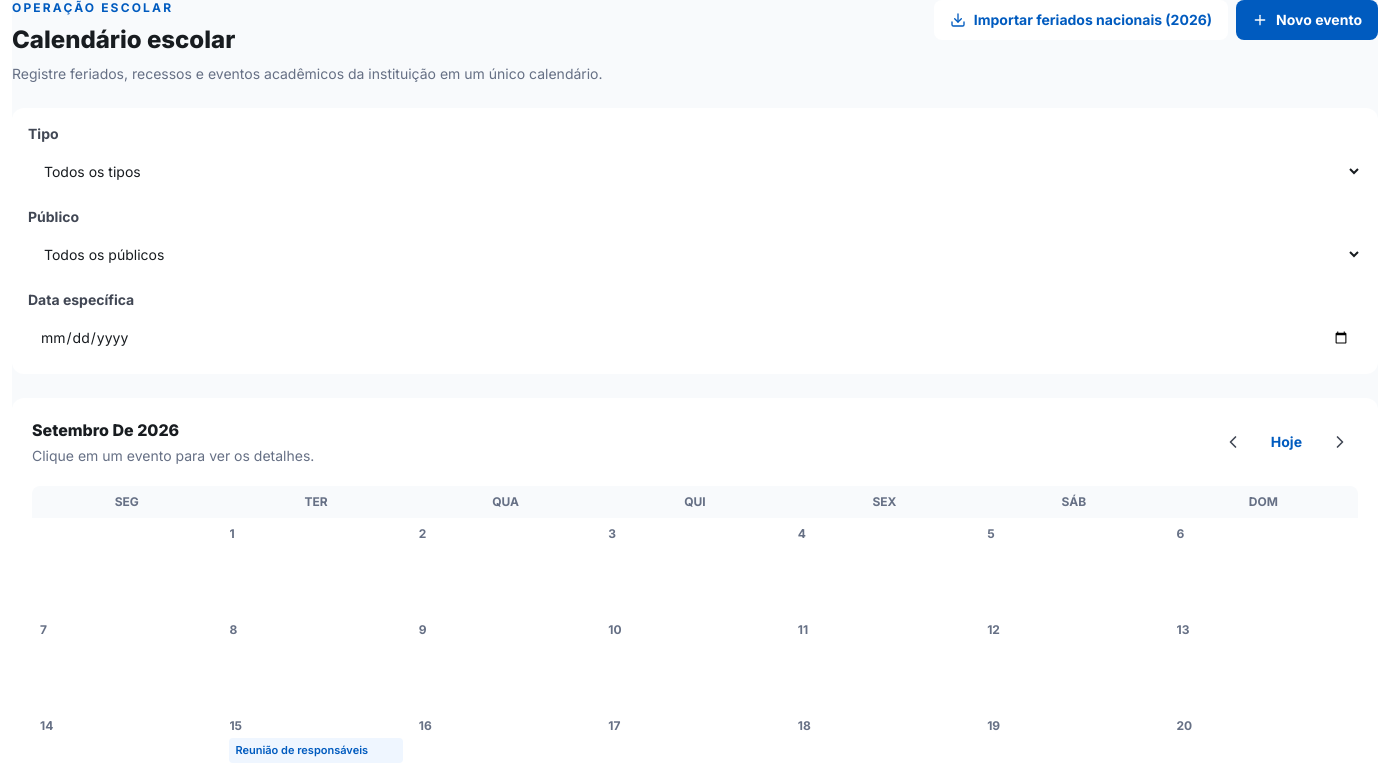
Test: AcademicCalendarTab › renderiza o calendário mensal e abre detalhes do evento
This screenshot has width=1390, height=768.
Expected: the heading "Calendário escolar" is shown, [12, 25, 235, 54]
Click the button "Reunião de responsáveis". click: click(316, 750)
box: [229, 738, 403, 762]
(page scrolled)
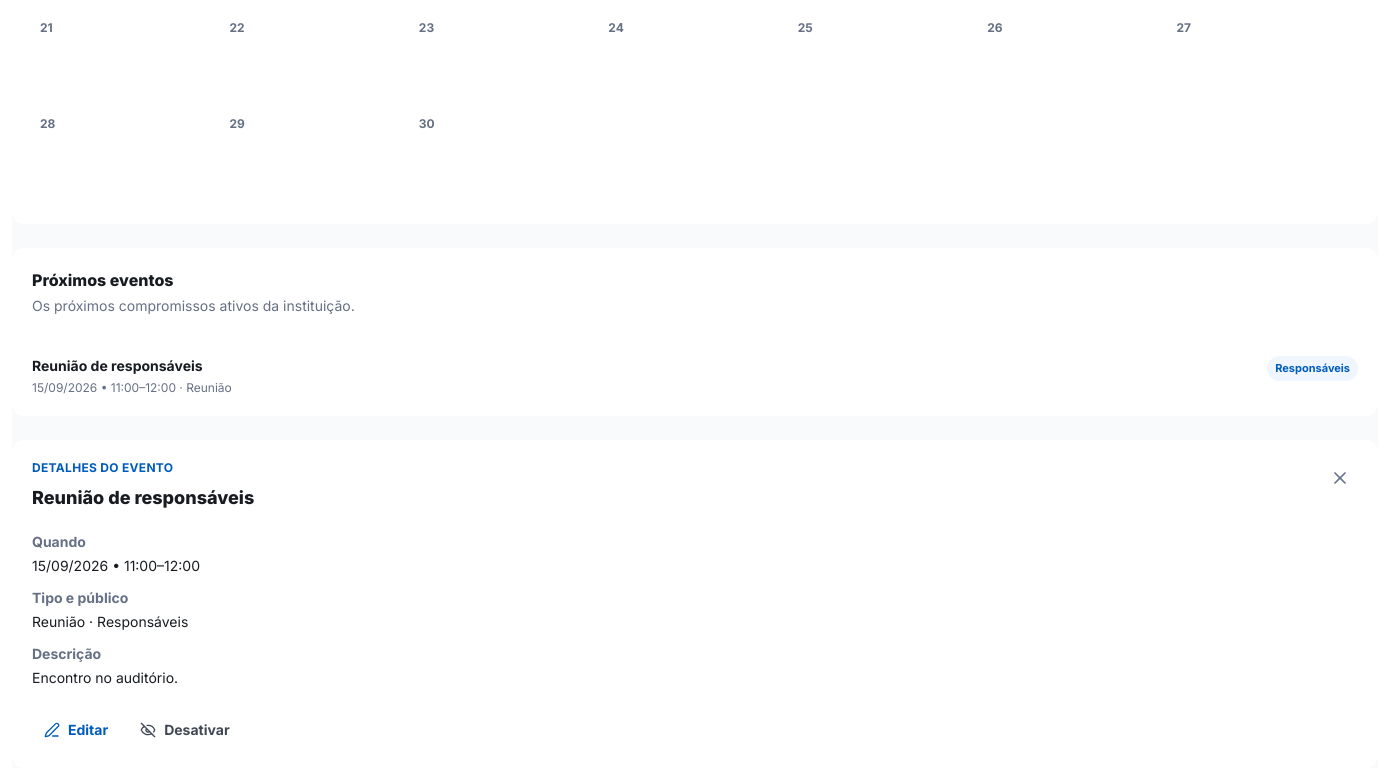
Now the heading "Reunião de responsáveis" is shown, box [32, 484, 254, 512]
Now the text "Encontro no auditório." is shown, box [32, 669, 178, 686]
